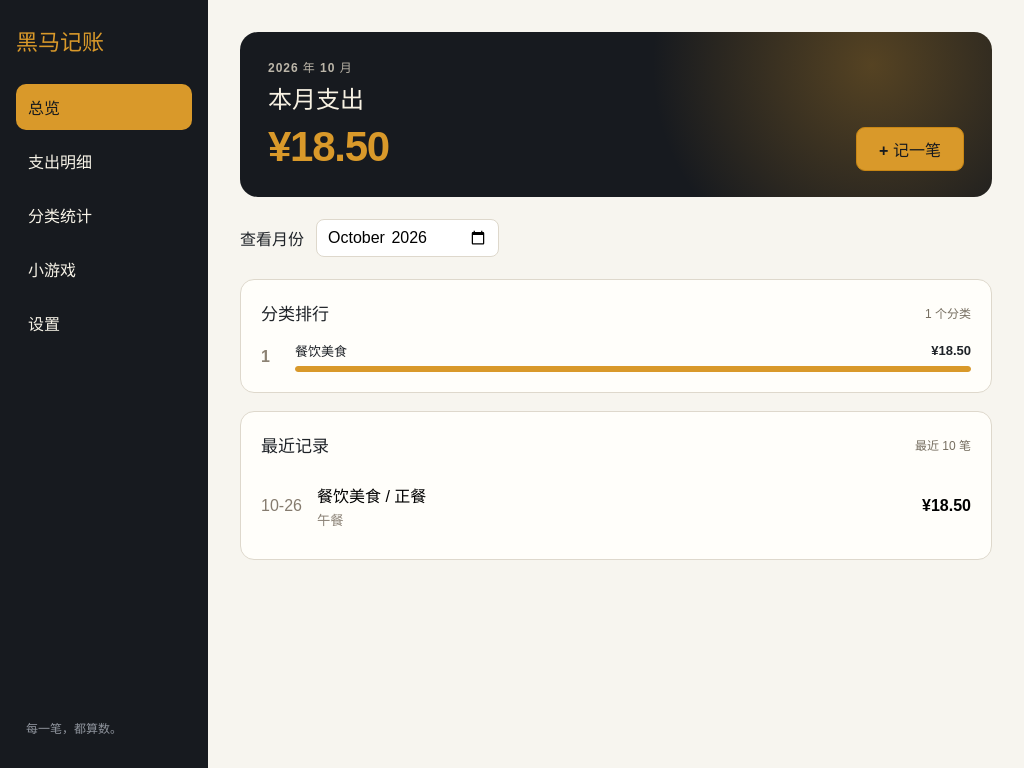
Test: expense workflows › shows the hierarchical monthly breakdown
Click the button "分类统计".
click(104, 215)  # box [16,192,192,238]
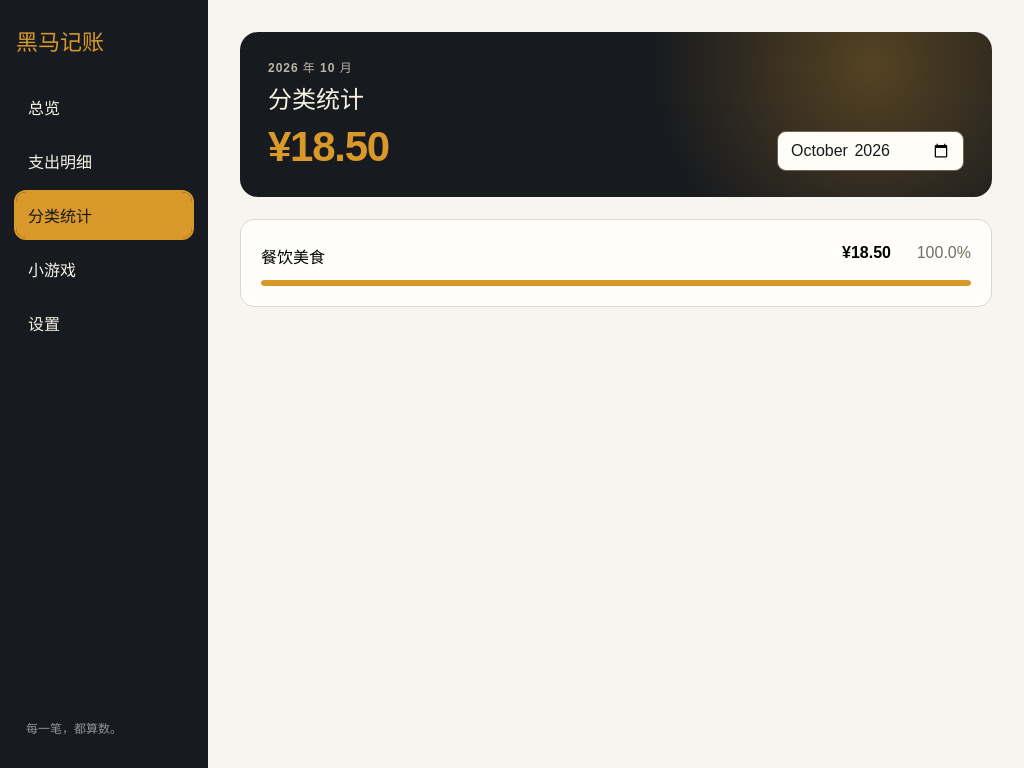
Expected: the text "餐饮美食" is shown, [261,249,325,266]
Click the button with aria-label "展开 餐饮美食".
click(293, 258)  # box [261,240,971,272]
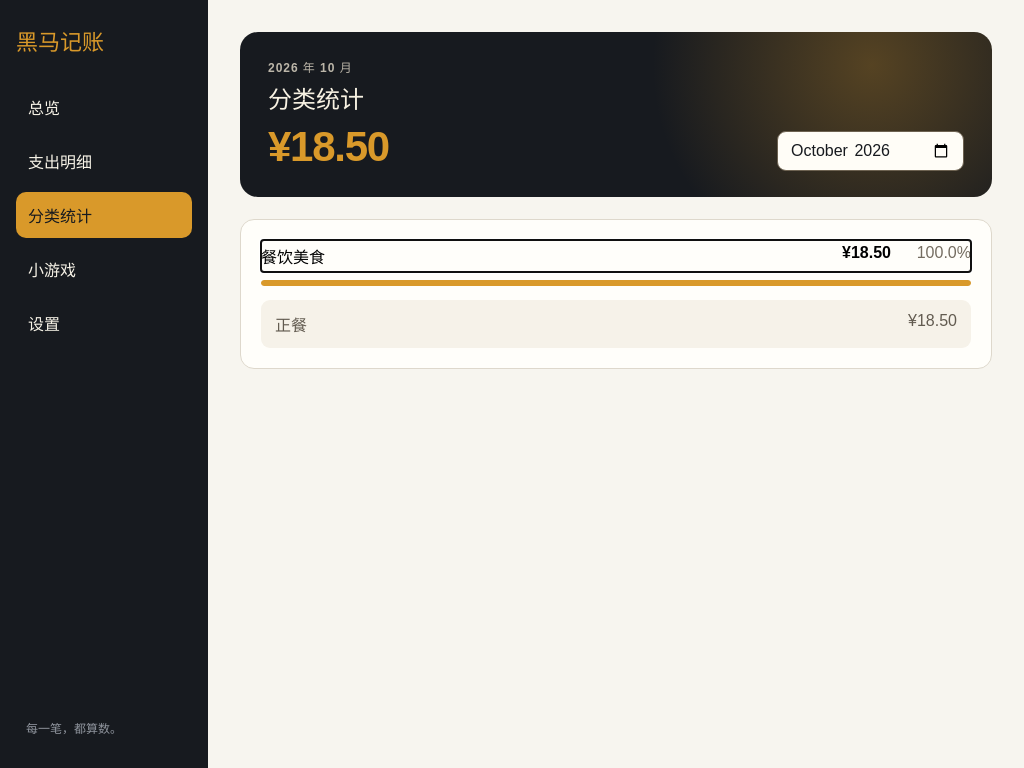
Expected: the text "¥18.50" is shown 3 times, [268,123,389,171]; [842,244,891,262]; [908,312,957,336]
Expected: the text "正餐" is shown, [275,312,307,336]
